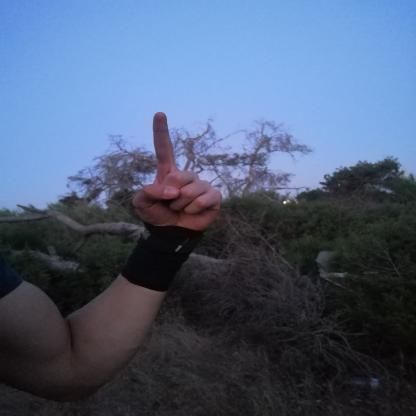BAA: (125, 105, 229, 240)
